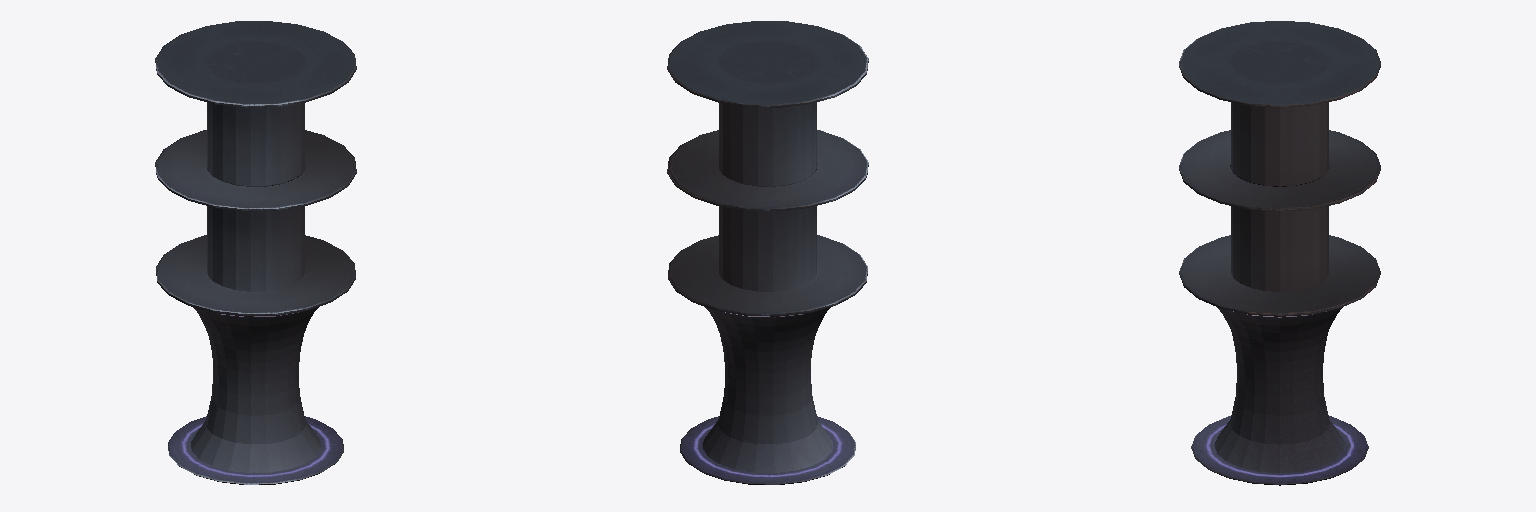
3 renders of one model, left to right at view 1: azimuth 30°, elevation 25°; view 2: azimuth 150°, elevation 25°; view 3: azimuth 270°, elevation 25°, orthographic.
Visible parts, largest first — view 1: barcenter; view 2: barcenter; view 3: barcenter.
Part boxes in pixels (x1,y1,x2,y2): barcenter: (155, 21, 356, 484); barcenter: (667, 21, 868, 484); barcenter: (1179, 21, 1380, 485).
Size of the model in its own units: 1.02 by 2.14 by 1.02.
Materials: 1 (1 with a texture image).